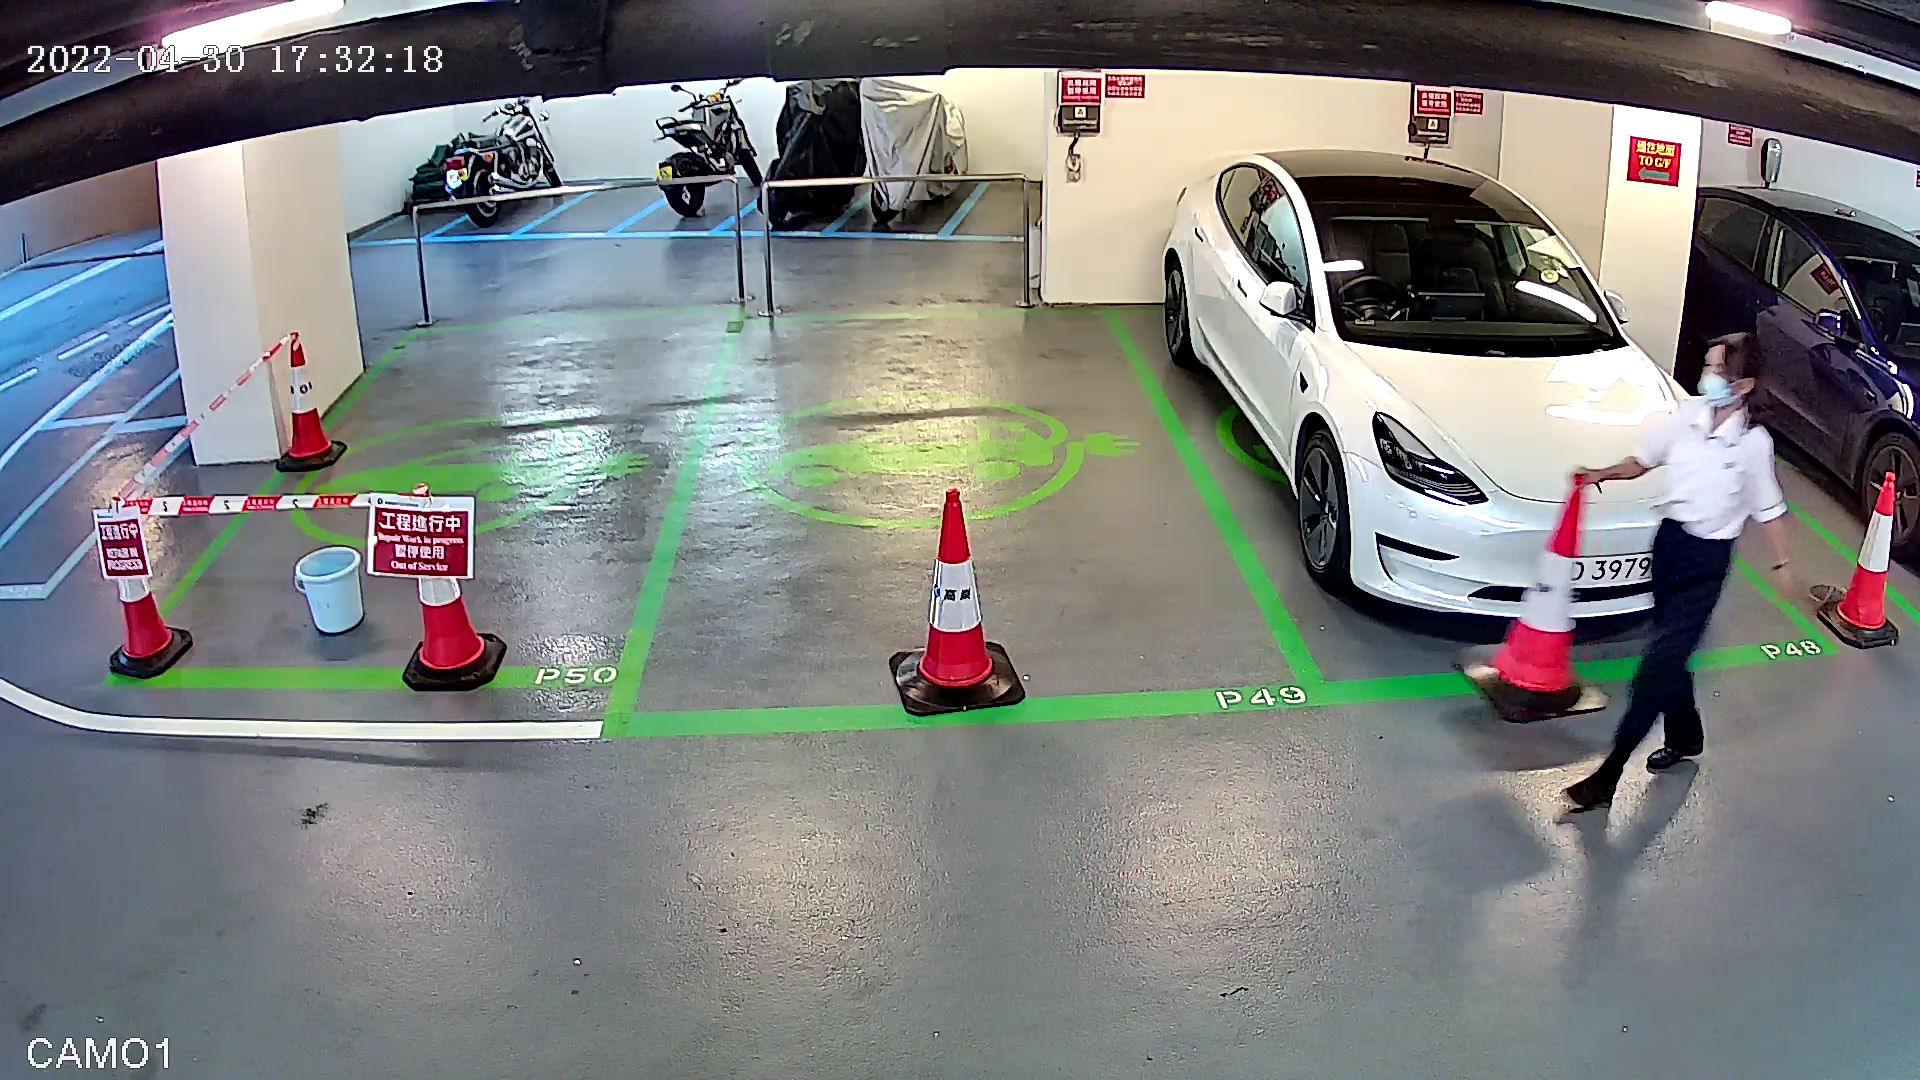car: (1137, 135, 1745, 645)
space: (592, 253, 1338, 766)
